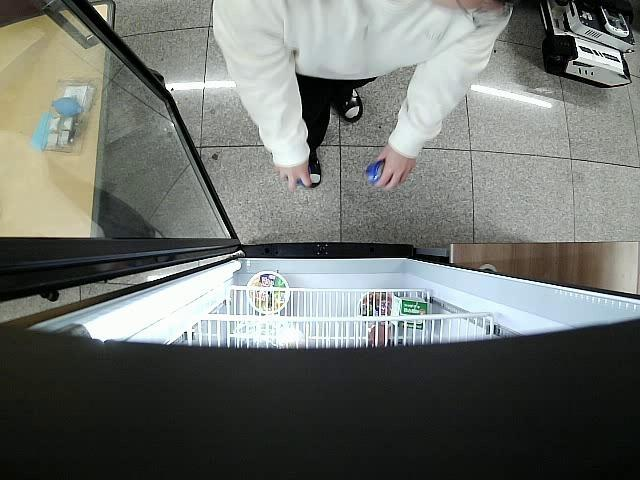13_pocariSweat: (366, 160, 386, 184)
